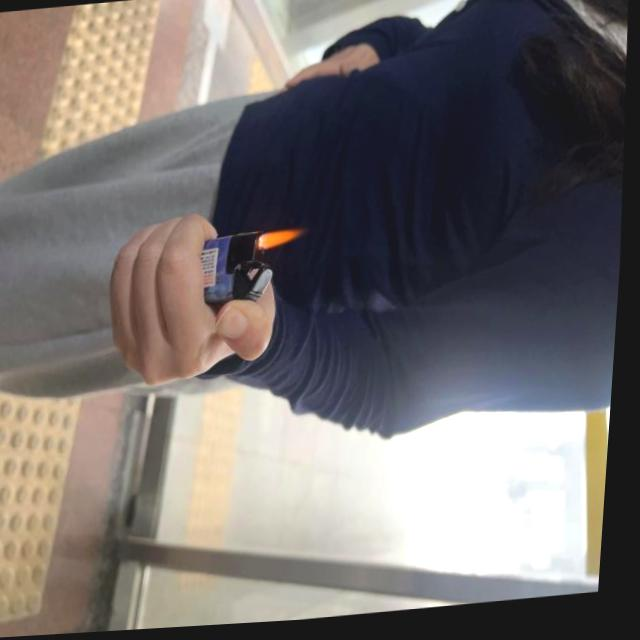Fire: (263, 228, 303, 254)
